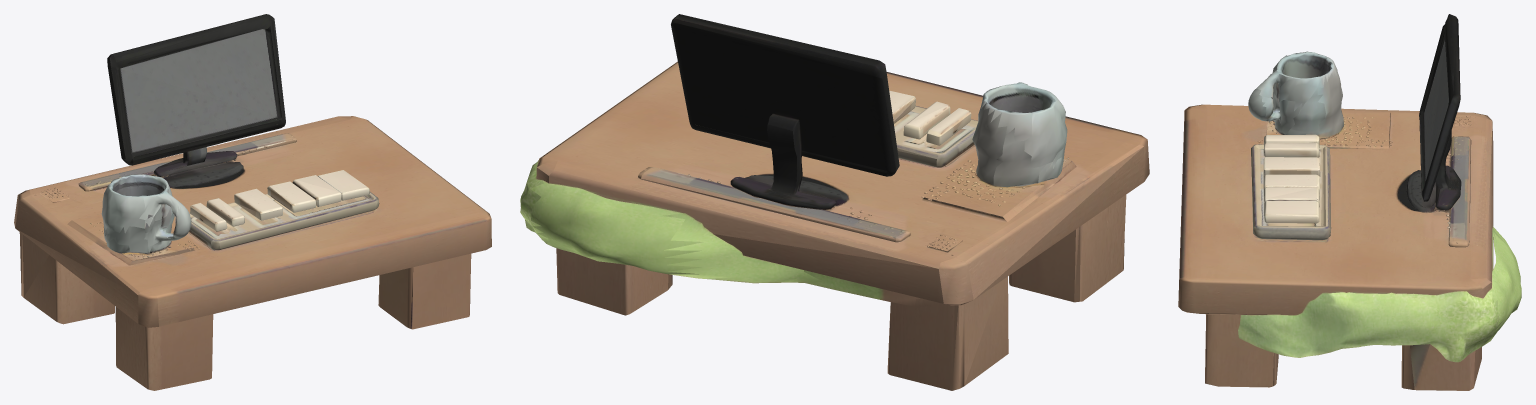
The model's file is low-monitor-raised-four-key-workstation-meshy-t2-web-v1.glb.
3 renders of one model, left to right at view 1: azimuth 30°, elevation 25°; view 2: azimuth 150°, elevation 25°; view 3: azimuth 270°, elevation 25°, orthographic. The views are drawn at different scales.
Size of the model in its own units: 0.9961 by 0.6152 by 0.7578.
1 material, 1 textured.
